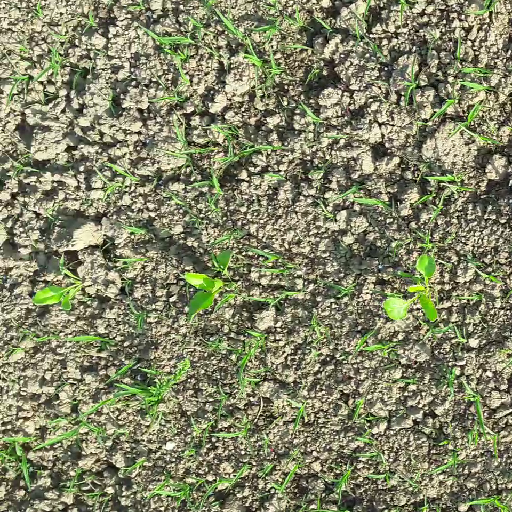sugarbeet: (179, 248, 244, 322), (376, 252, 439, 325), (28, 251, 86, 310)
weed: (1, 1, 512, 511)
